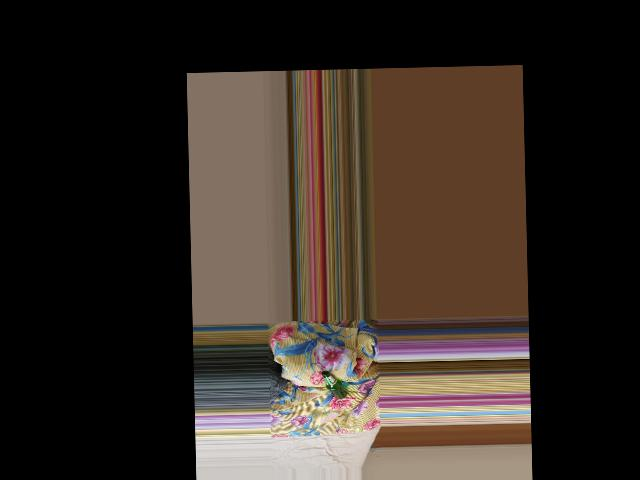beer: (322, 369, 347, 398)
